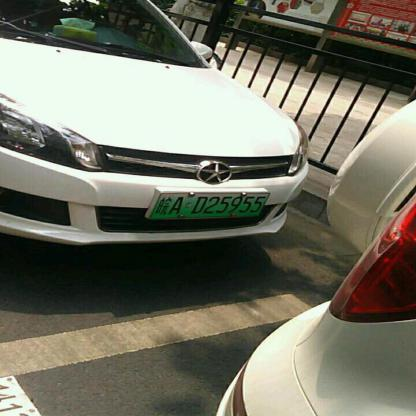lp: (148, 192, 270, 218)
